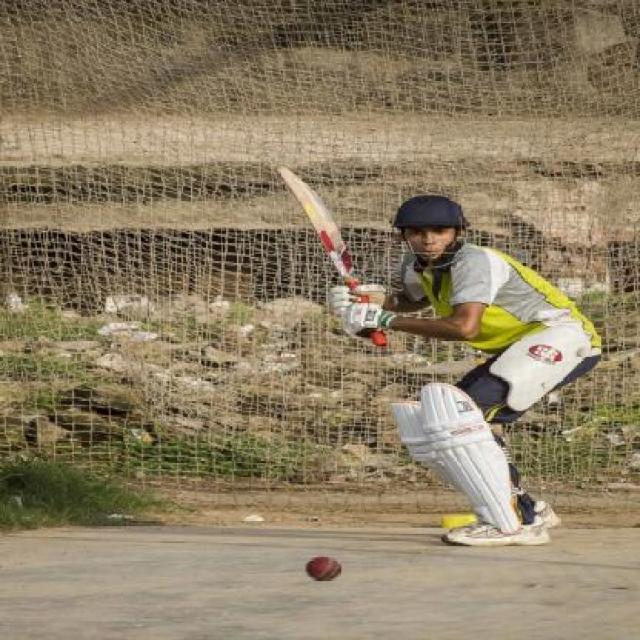-: (296, 537, 373, 598)
